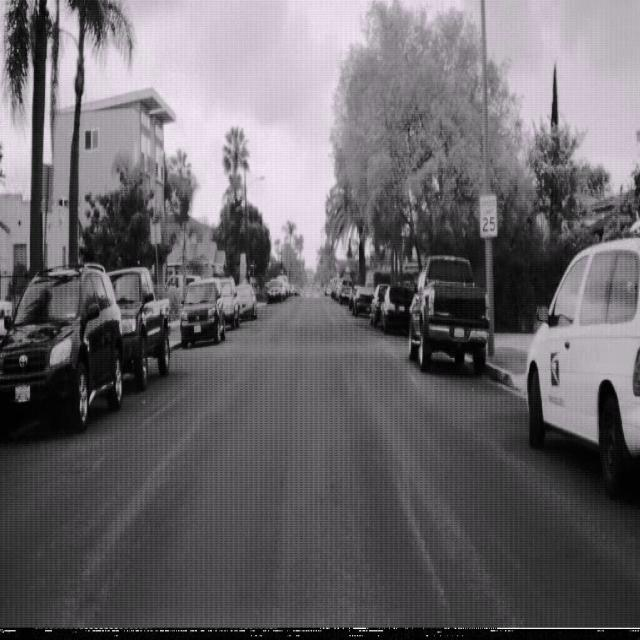speedLimit25: (479, 192, 498, 238)
